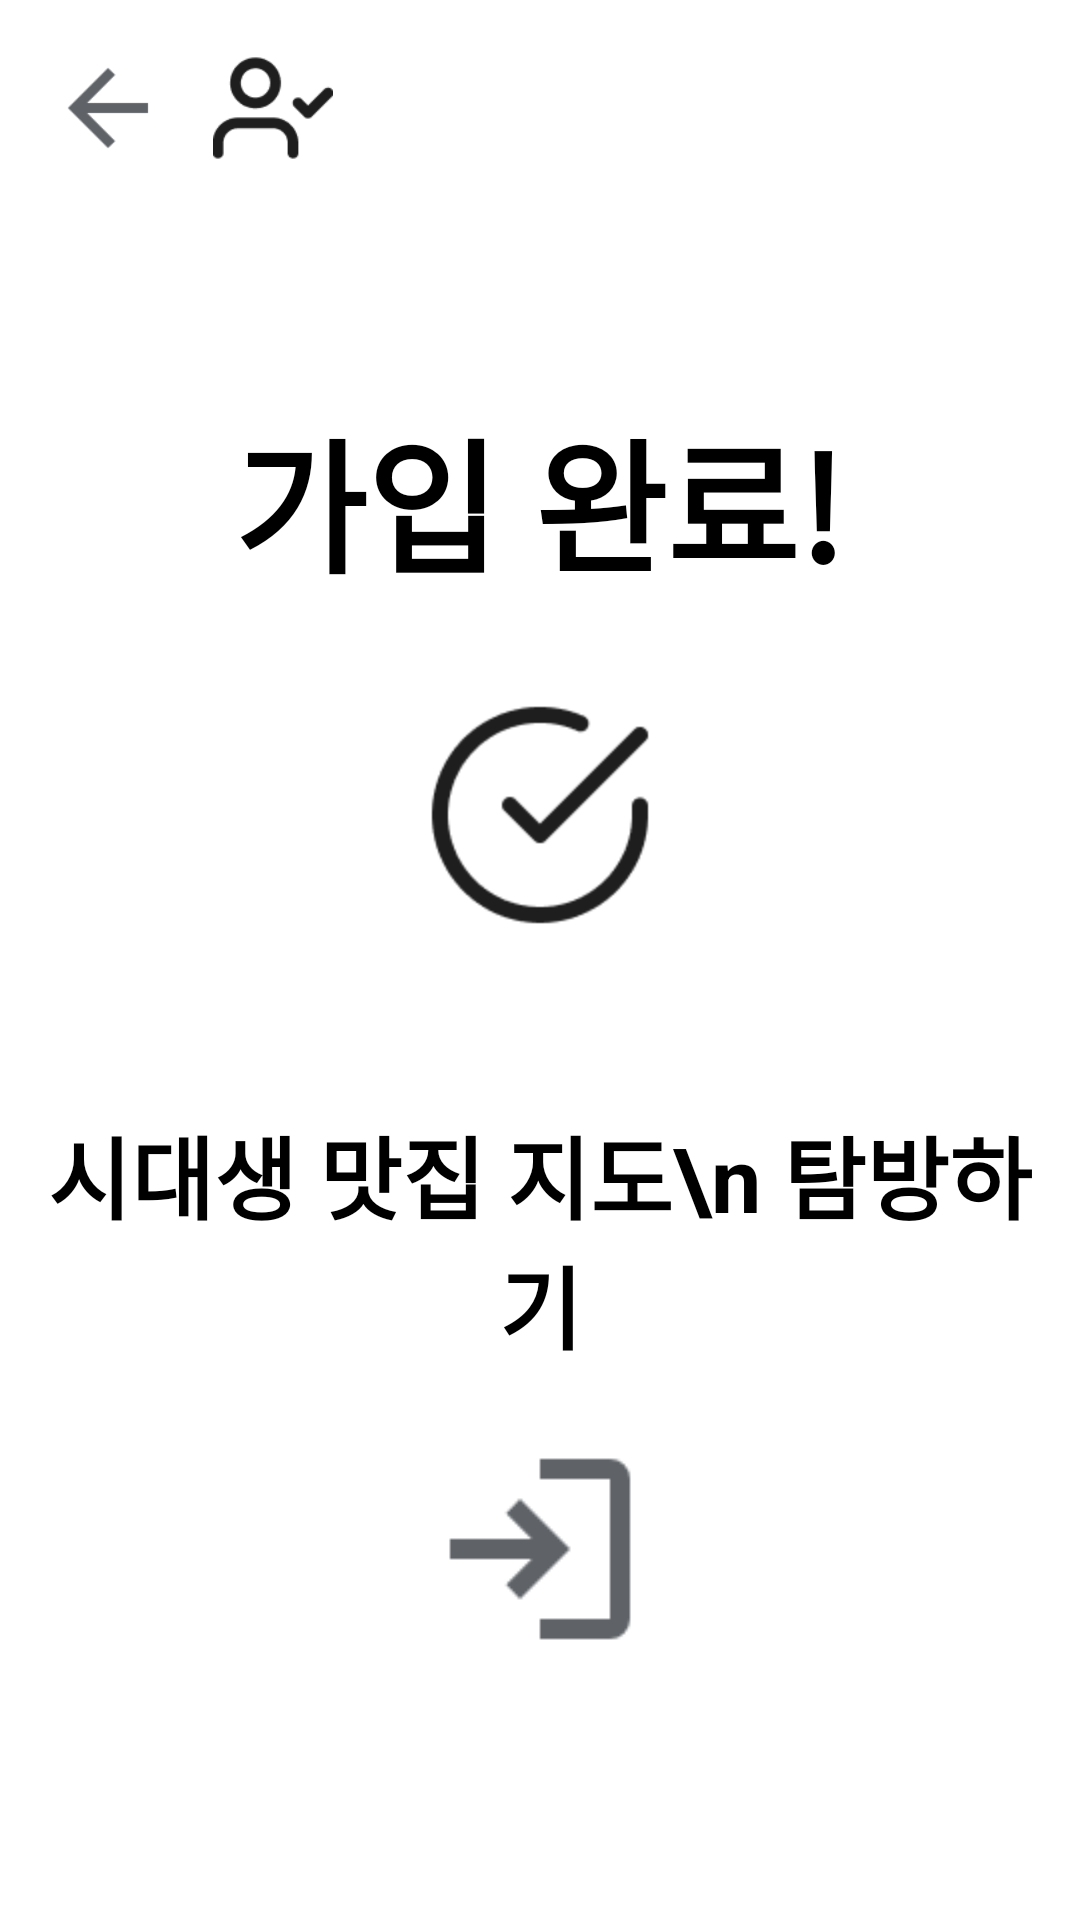

Icons on this 1080×1920 Android screen, each with the point to tap as (x,y):
back: (108,108)
login: (540,1549)
